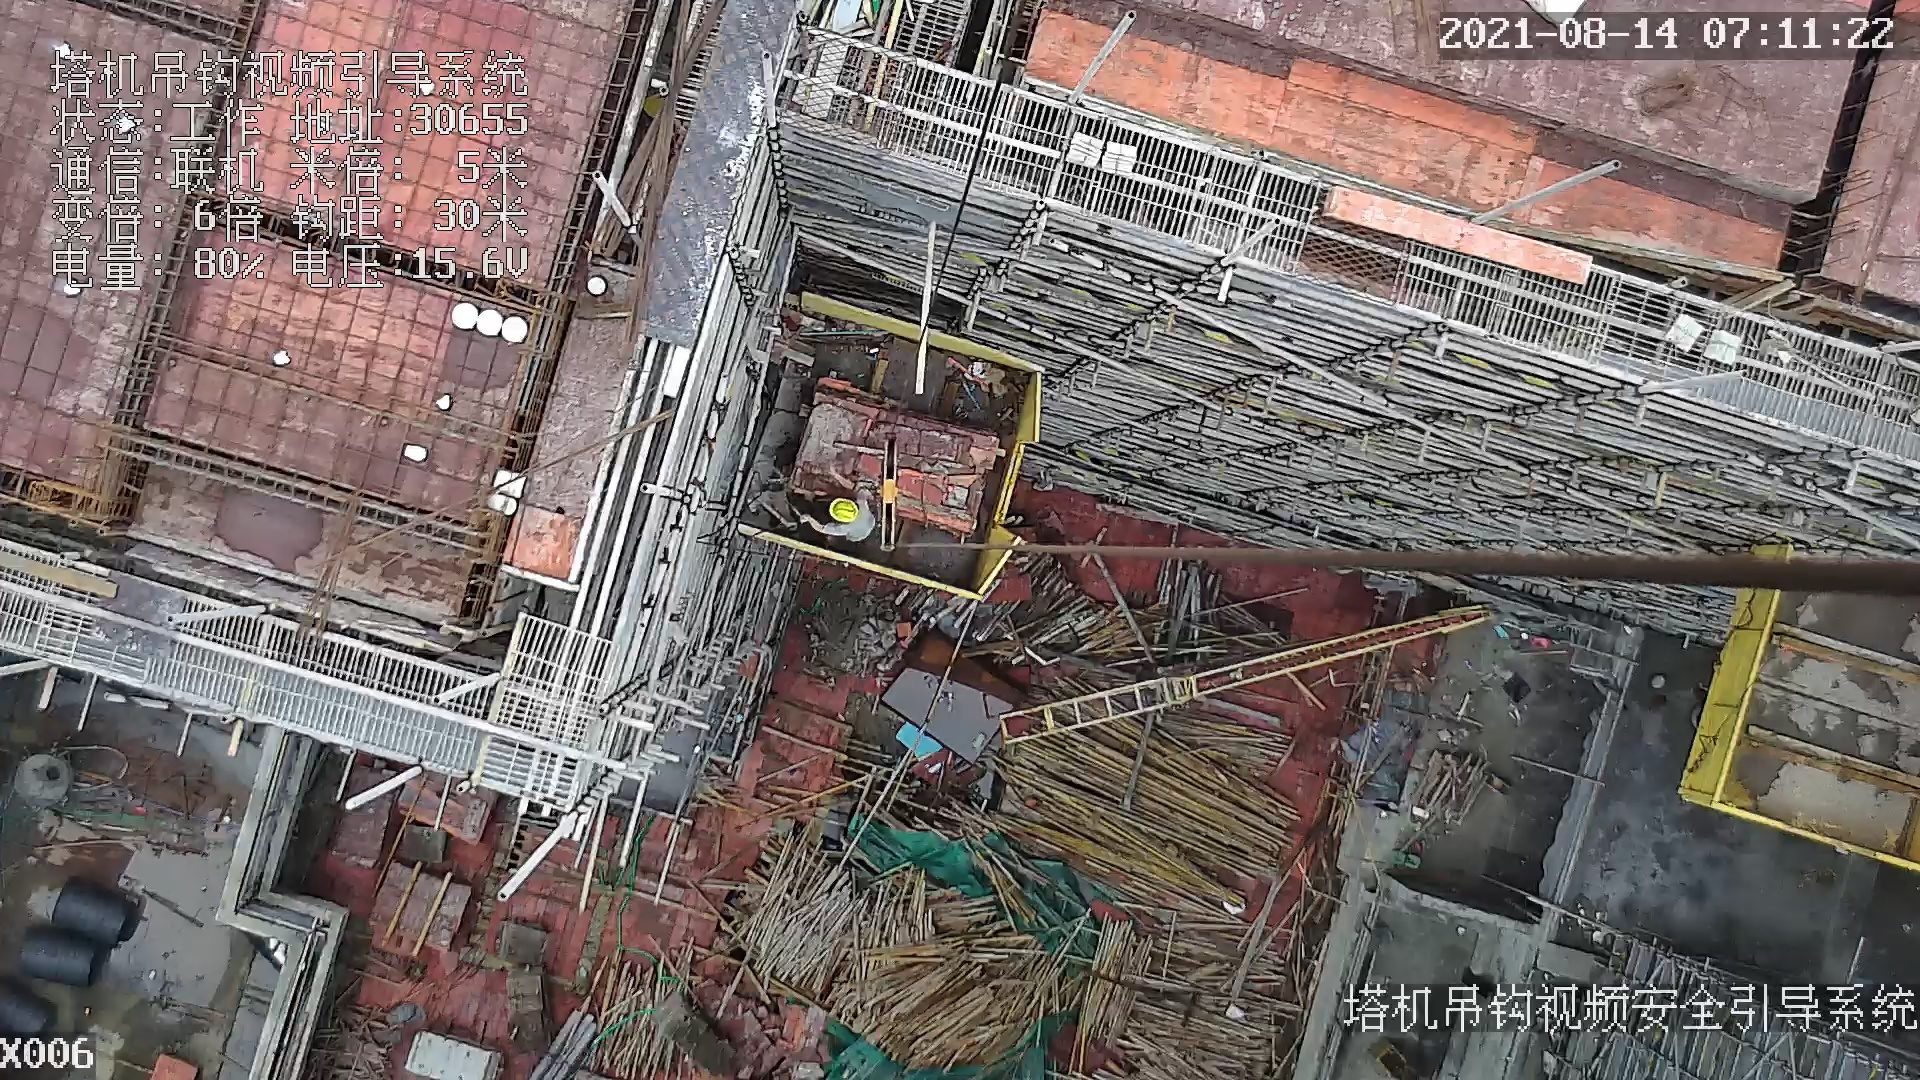helmet: (828, 496, 860, 524)
hook: (870, 432, 905, 550)
person: (799, 468, 887, 553)
